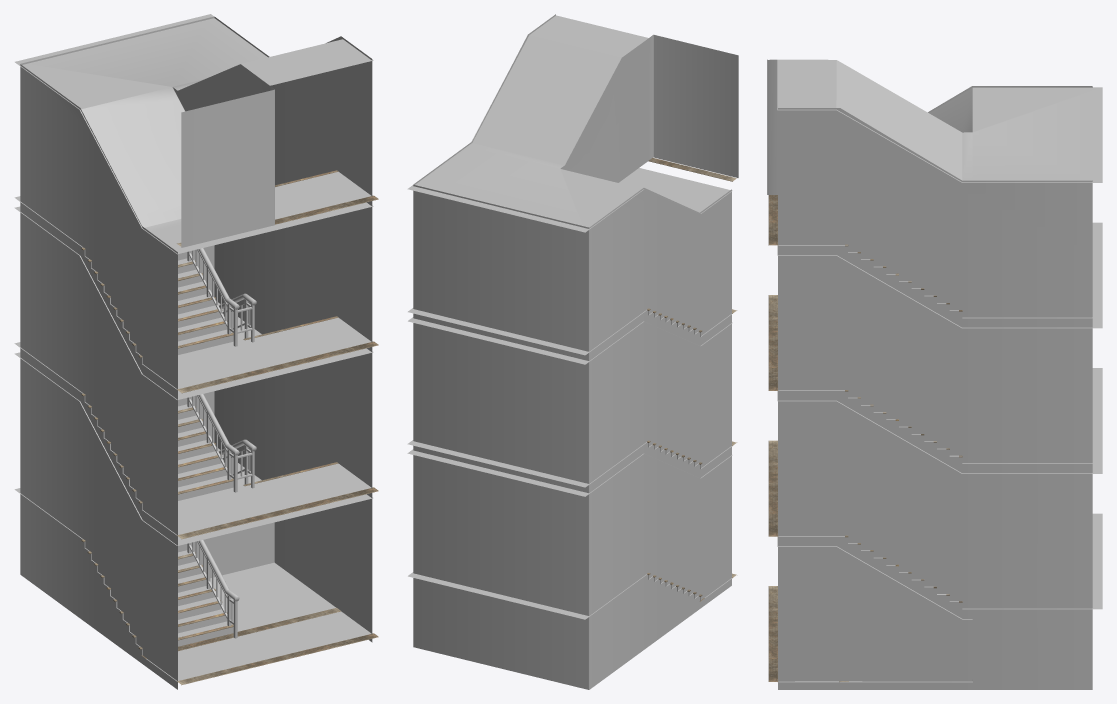
Rendered from stairwell_mesh.FBX.
3 views of the same model, side by side, from view 1: azimuth 30°, elevation 25°; view 2: azimuth 150°, elevation 25°; view 3: azimuth 270°, elevation 25° (orthographic). The views are drawn at different scales.
Visible parts, largest first — view 1: stairwell_ground; view 2: stairwell_ground; view 3: stairwell_ground.
Part boxes in pixels (left/top/right/bottom): stairwell_ground: left=14, top=14, right=378, bottom=689; stairwell_ground: left=407, top=14, right=738, bottom=689; stairwell_ground: left=767, top=59, right=1102, bottom=689.
Bounding box in the file's own units: 466 × 1307 × 683.
